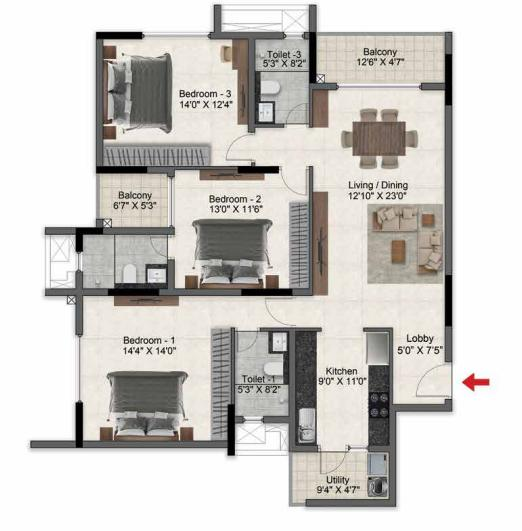Balcony: (312, 34, 448, 86), (99, 170, 172, 232)
Bed: (105, 370, 186, 443), (102, 54, 172, 135), (197, 225, 267, 290)
Bedroom: (81, 290, 232, 448), (102, 36, 251, 169), (170, 174, 310, 295)
Dining Room: (311, 82, 446, 206)
Dining table: (339, 104, 422, 172)
Kitchen: (295, 330, 386, 454)
Living Room: (312, 196, 451, 326)
Sofa: (412, 231, 443, 277), (370, 204, 419, 233)
Wardrobe: (210, 328, 233, 442), (102, 145, 210, 165), (289, 202, 312, 291)
door: (415, 361, 451, 398), (265, 297, 294, 327), (225, 132, 251, 162), (281, 169, 308, 196), (321, 451, 347, 476), (236, 332, 260, 355), (150, 235, 168, 259)
kitchen-slab: (294, 328, 319, 453), (365, 366, 392, 450)
lobby: (391, 328, 450, 407)
sink: (298, 408, 316, 443)
stove: (369, 394, 391, 420)
toilet: (249, 30, 312, 123), (77, 232, 168, 289), (236, 331, 291, 419)
tv: (314, 198, 330, 297), (233, 41, 252, 124), (199, 172, 265, 182), (115, 295, 176, 305)
utility: (291, 454, 393, 504)
